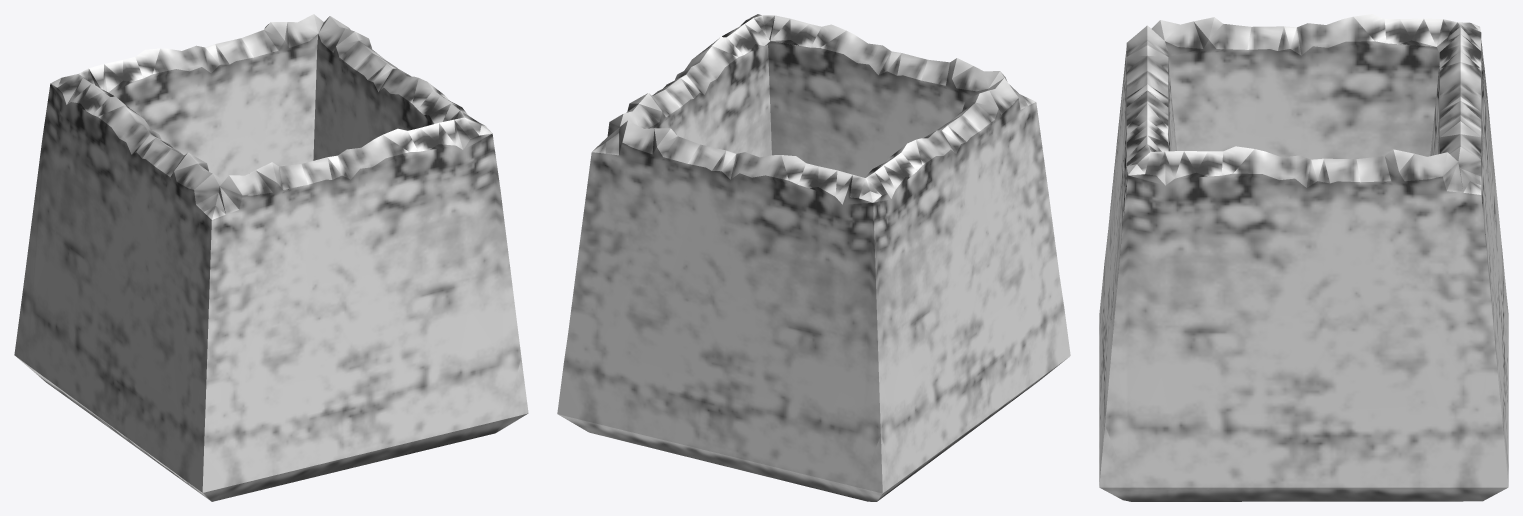
File: Ruins_tower00.fbx
The picture shows the model from 3 angles, left to right: view 1: azimuth 30°, elevation 25°; view 2: azimuth 150°, elevation 25°; view 3: azimuth 270°, elevation 25°; orthographic projection. The views are drawn at different scales.
Visible parts, largest first — view 1: Ruins_tower00; view 2: Ruins_tower00; view 3: Ruins_tower00.
Boxes of the visible parts, box(x1,y1,x2,y2) form: Ruins_tower00: box(14, 14, 528, 501); Ruins_tower00: box(557, 14, 1070, 501); Ruins_tower00: box(1099, 14, 1508, 501).
Size of the model in its own units: 356 by 331 by 356.
